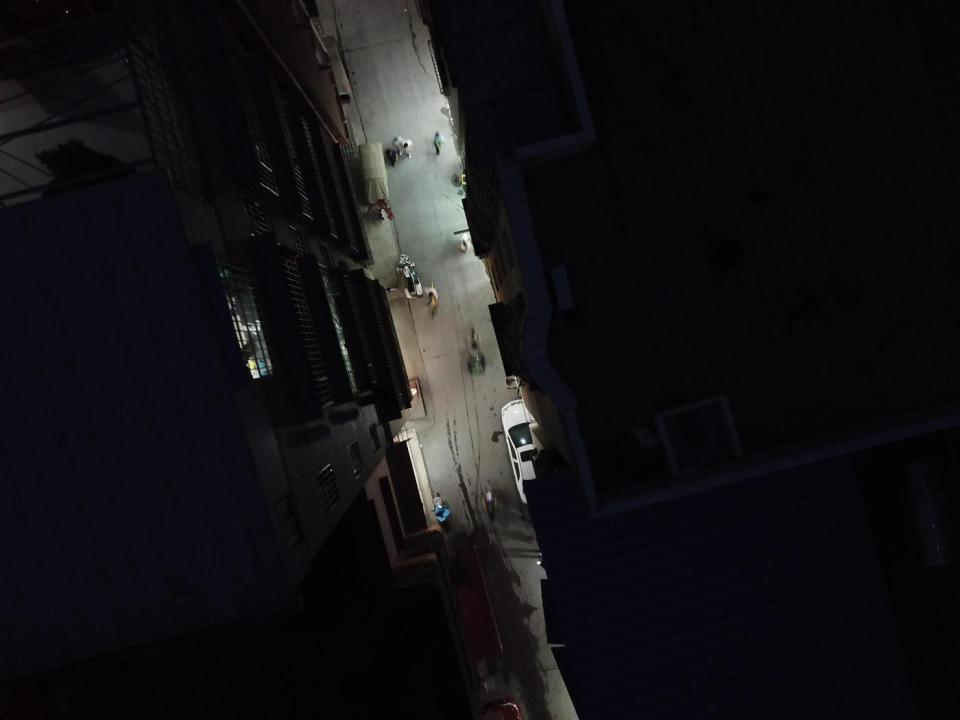car: (500, 395, 562, 504)
